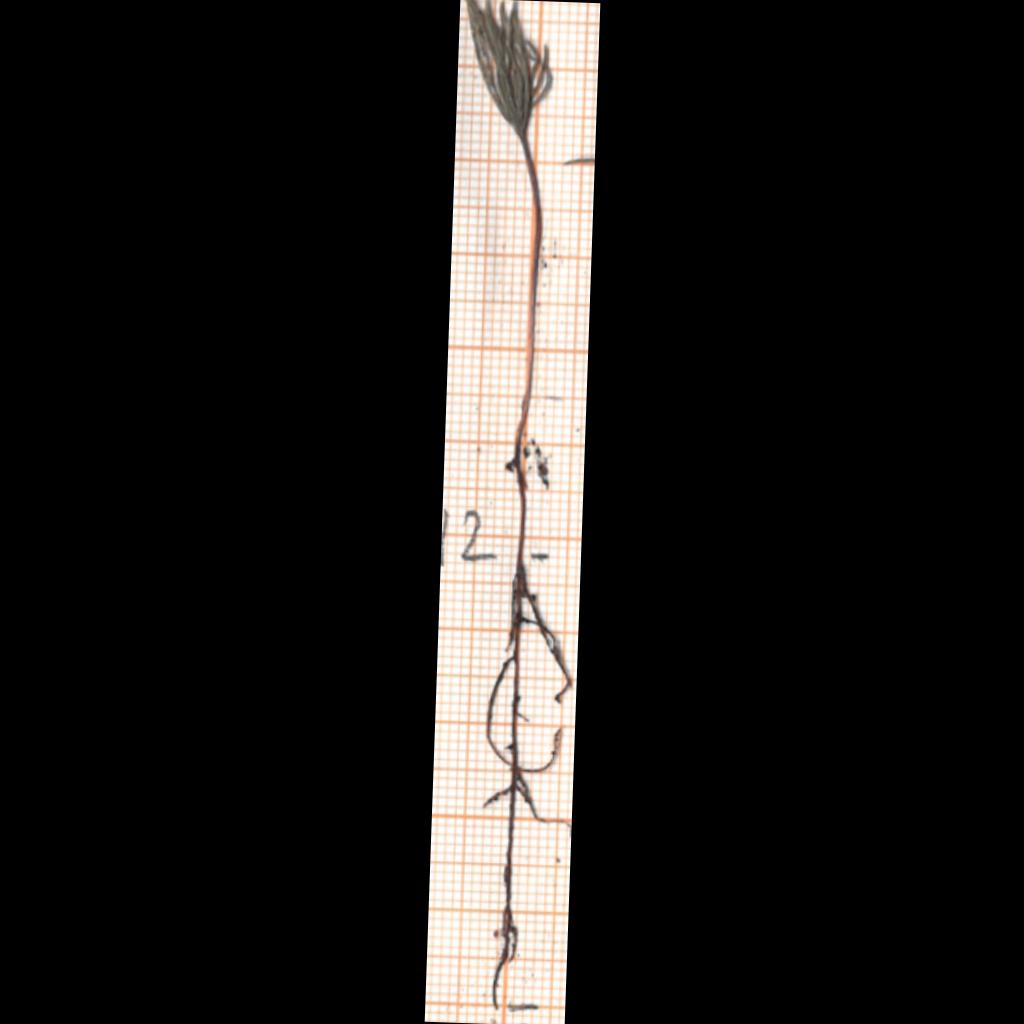flowerPinus: (465, 0, 551, 141)
rootPinus: (488, 565, 572, 1009)
stemPinus: (515, 137, 541, 564)
